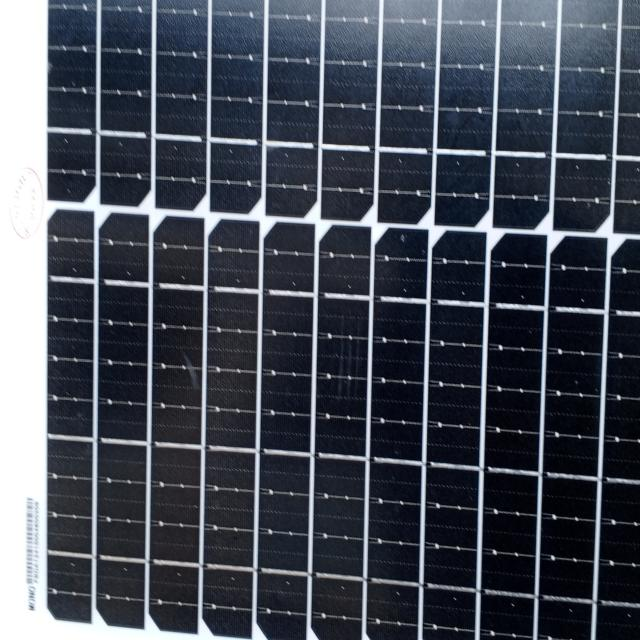Clean: (20, 4, 640, 637)
